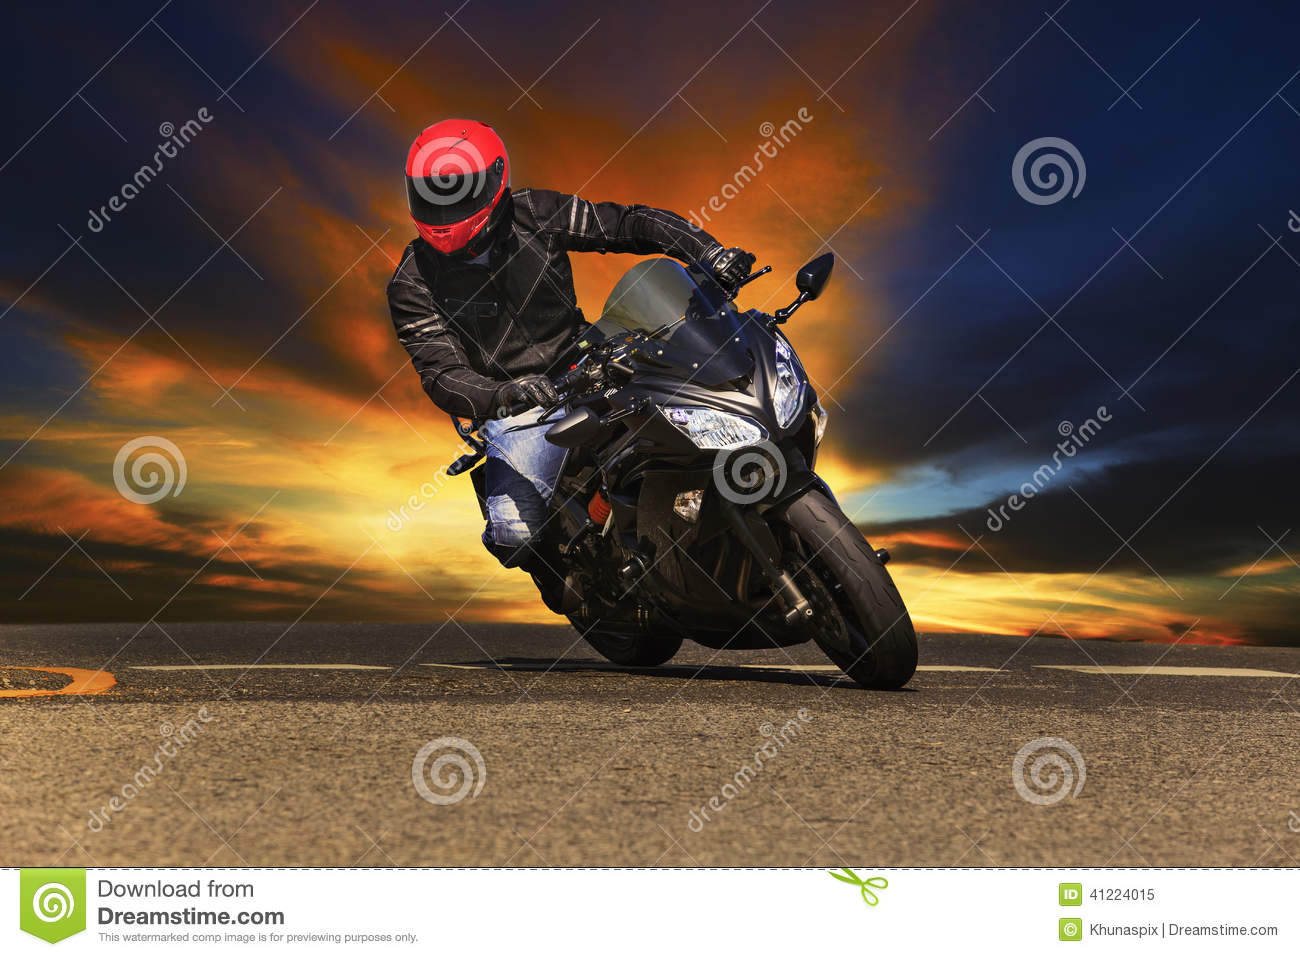helmet: (387, 114, 523, 249)
